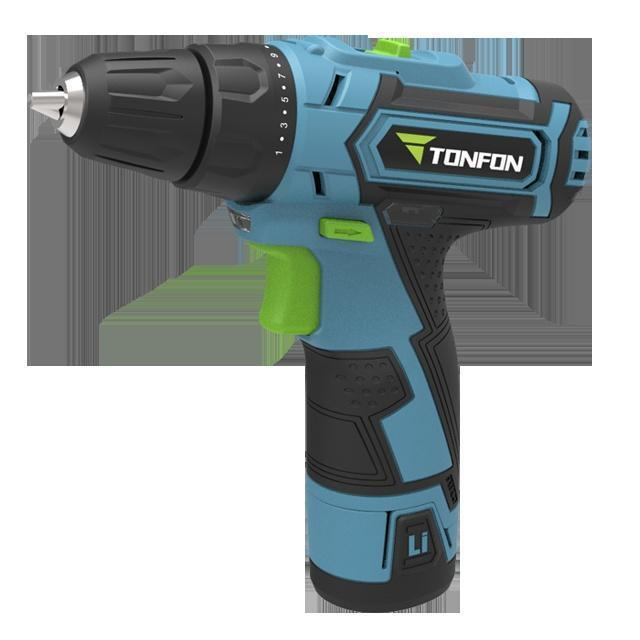drill: (28, 35, 592, 614)
